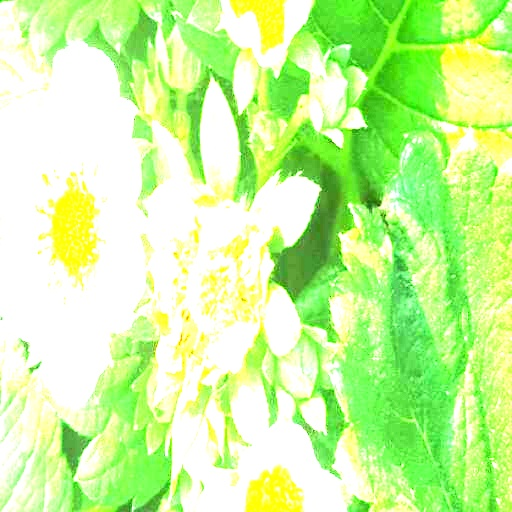Blossom Blight: (167, 210, 260, 366), (31, 149, 112, 314)
